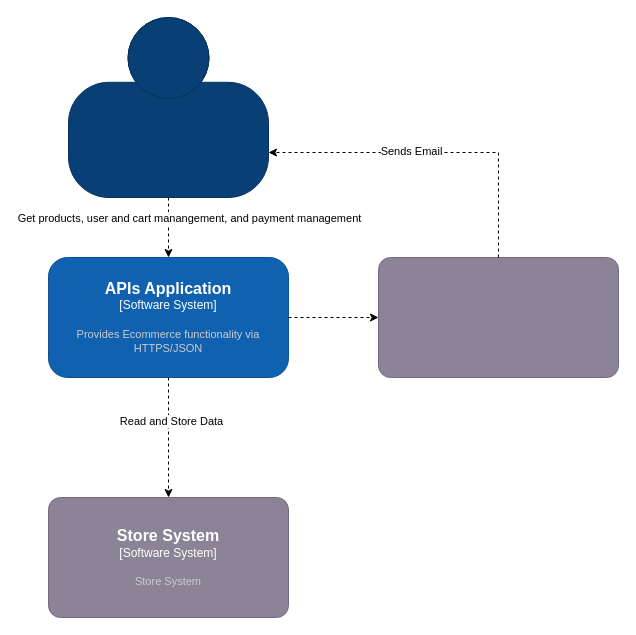
This 636x635 diagram has some shape labels left out. Here are the shapes that lost their labels. From the top down, the centre of each, then its label:
At [168,107]: "Ecommerce Customer [Person] Person who is going to buy and see their orders.".
At [498,317]: "Gmail Send Email System [Software System] Sends Email via Gmail".
